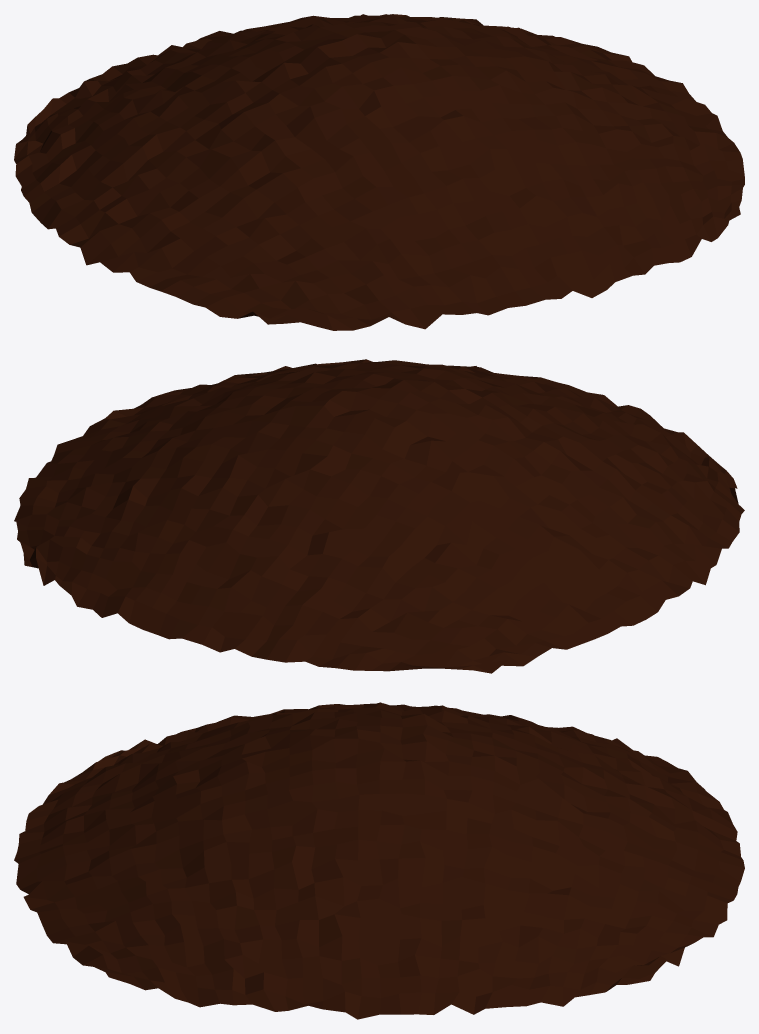
File: ground.fbx
3 renders of one model, top to bottom at view 1: azimuth 30°, elevation 25°; view 2: azimuth 150°, elevation 25°; view 3: azimuth 270°, elevation 25°, orthographic. The views are drawn at different scales.
Parts seen in each view (by area): view 1: ground; view 2: ground; view 3: ground.
Part boxes in pixels (left/top/right/bottom): ground: left=14, top=14, right=744, bottom=330; ground: left=14, top=359, right=744, bottom=673; ground: left=14, top=702, right=744, bottom=1019.
Size of the model in its own units: 185 by 37.18 by 185.
